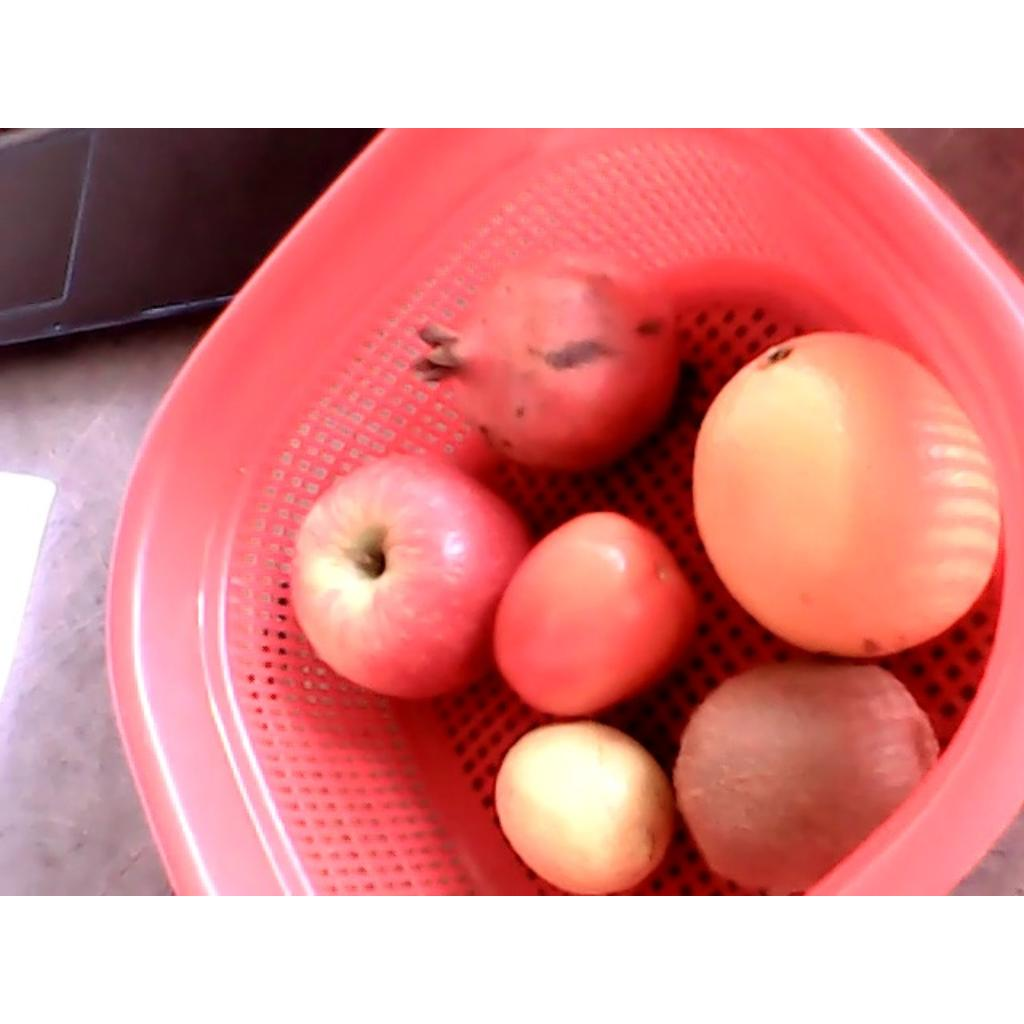apple: (287, 454, 531, 705)
kiwi: (672, 660, 939, 891)
lemon: (496, 721, 674, 894)
orange: (691, 332, 1000, 657)
pomegranate: (406, 251, 695, 471)
tomato: (492, 510, 695, 716)
